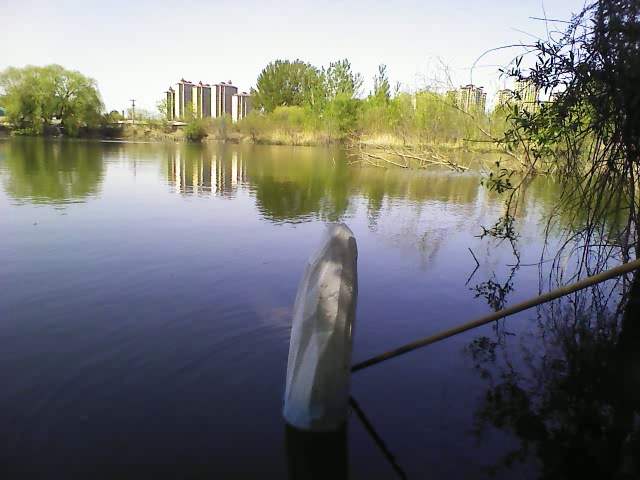iceberg: (272, 220, 363, 436)
